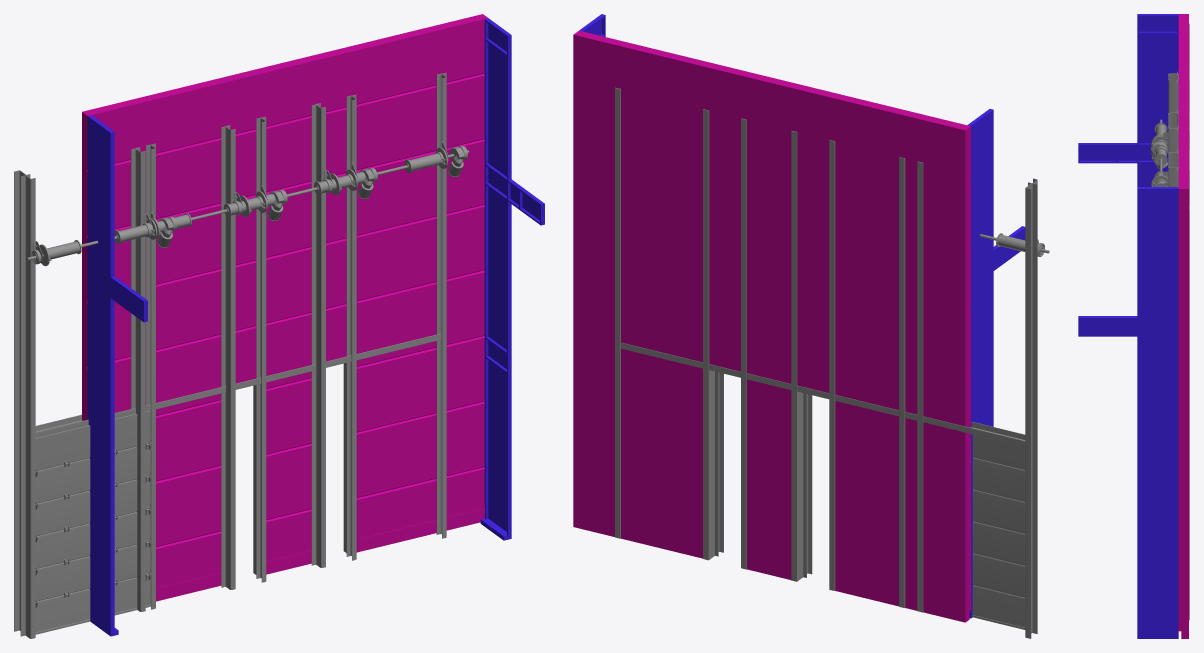
Rendered from DockDoor_01.glb.
3 renders of one model, left to right at view 1: azimuth 30°, elevation 25°; view 2: azimuth 150°, elevation 25°; view 3: azimuth 270°, elevation 25°, orthographic. The views are drawn at different scales.
Visible parts, largest first — view 1: DockDoor_Wall_B, DockDoor_Wall_A, Door, Frame; view 2: DockDoor_Wall_B, DockDoor_Wall_A, Frame, Door; view 3: DockDoor_Wall_B, DockDoor_Wall_A, Frame.
Part boxes in pixels (x1,y1,x2,y2): DockDoor_Wall_B: (82, 14, 544, 636); DockDoor_Wall_A: (83, 19, 484, 601); Door: (35, 410, 150, 634); Frame: (14, 143, 177, 638); DockDoor_Wall_B: (573, 14, 1025, 622); DockDoor_Wall_A: (573, 35, 970, 617); Frame: (899, 157, 1049, 638); Door: (972, 434, 1025, 629); DockDoor_Wall_B: (1078, 14, 1189, 638); DockDoor_Wall_A: (1151, 22, 1189, 472); Frame: (1150, 23, 1189, 169).
Bounding box in the file's own units: 11.74 × 12 × 2.7.
